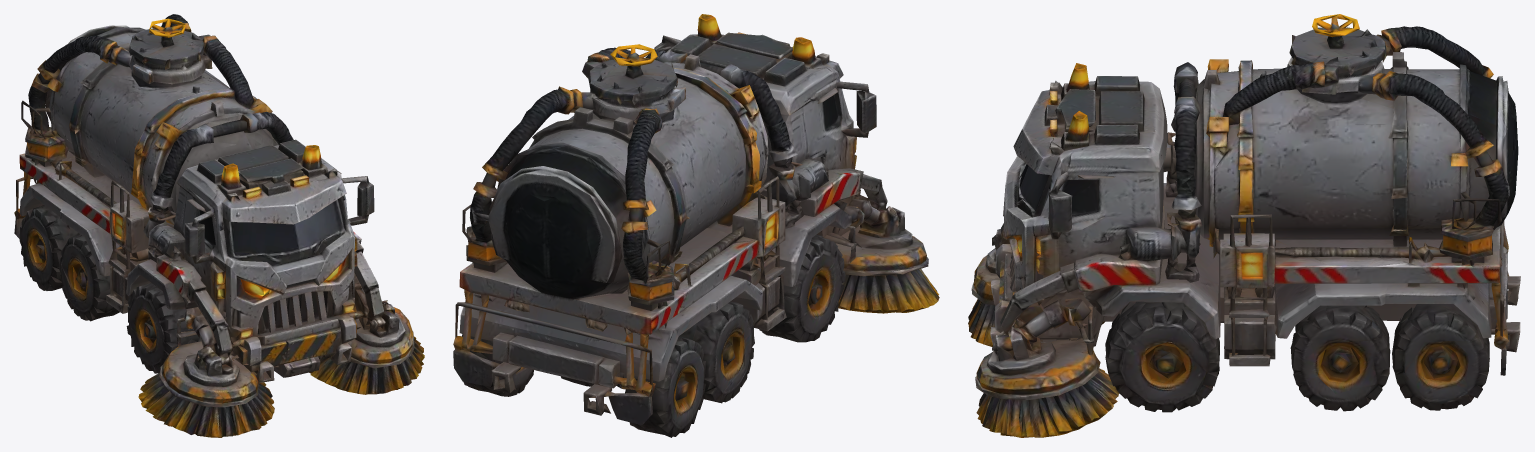
Rendered from m2GreySweeperBoss.glb.
3 renders of one model, left to right at view 1: azimuth 30°, elevation 25°; view 2: azimuth 150°, elevation 25°; view 3: azimuth 270°, elevation 25°, orthographic. The views are drawn at different scales.
Parts seen in each view (by area): view 1: model; view 2: model; view 3: model.
Boxes of the visible parts, left/top/right/bottom form: model: left=14, top=14, right=424, bottom=437; model: left=453, top=14, right=939, bottom=437; model: left=968, top=14, right=1520, bottom=437.
Bounding box in the file's own units: 1.34 × 1.32 × 1.9.
Materials: 1 (1 with a texture image).
